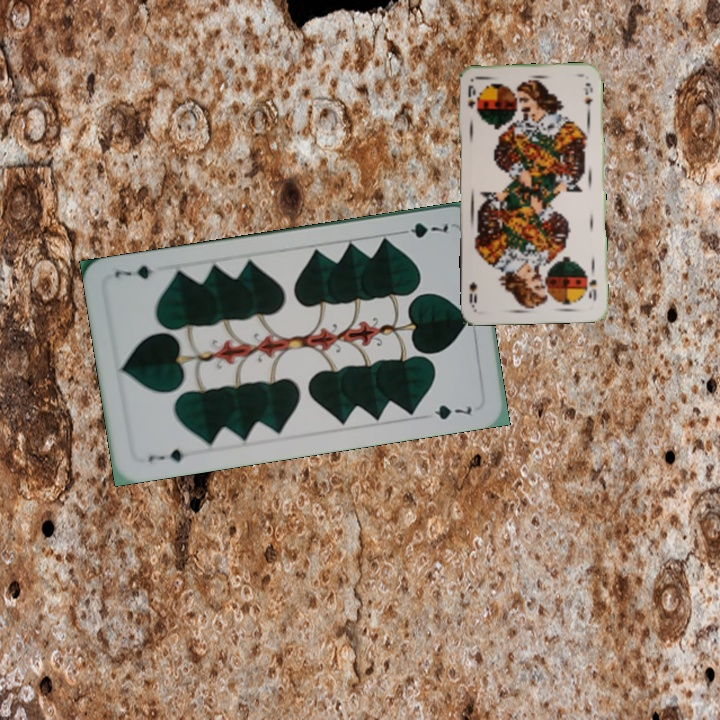G7: (393, 219, 452, 240), (144, 445, 187, 465)
SO: (584, 270, 599, 303), (464, 81, 478, 111)
